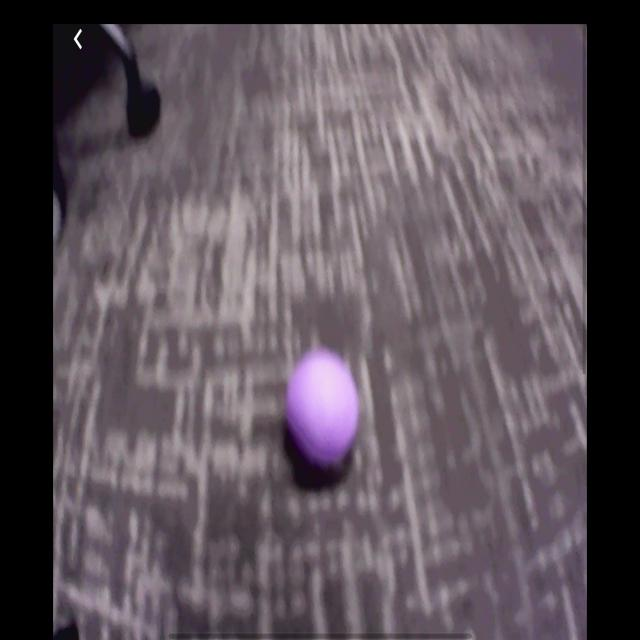ball: (284, 347, 361, 475)
